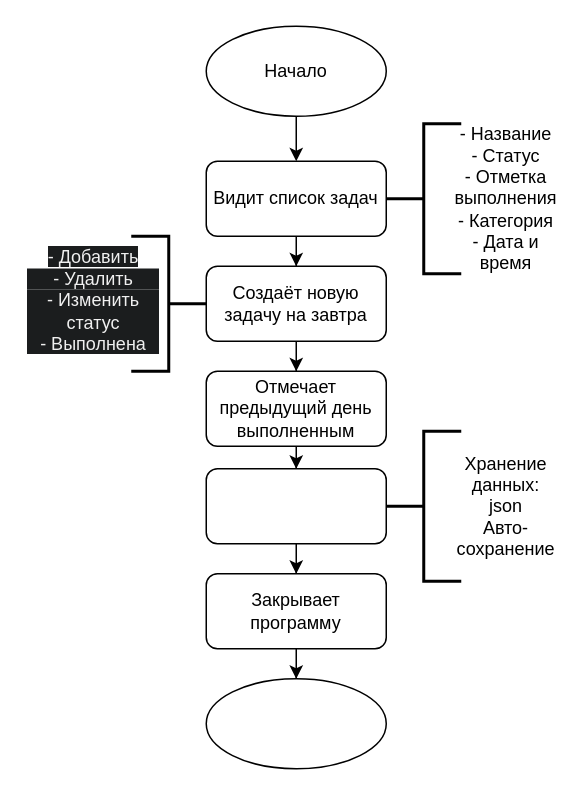
Image size: 582x795. Some labels were removed from this diagram. Here are the shapes that lost their labels. From the top down, the box of each, then its label:
(205, 467, 386, 544): Сохраняет резервную копию в файл
(205, 677, 386, 769): Конец
